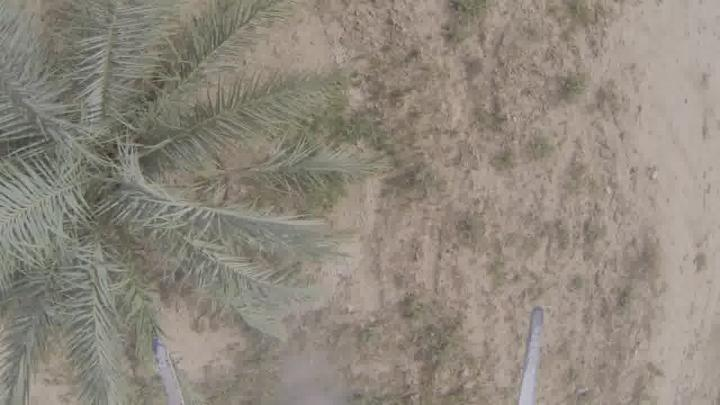Date-Palm-Crown: (0, 38, 210, 310)
